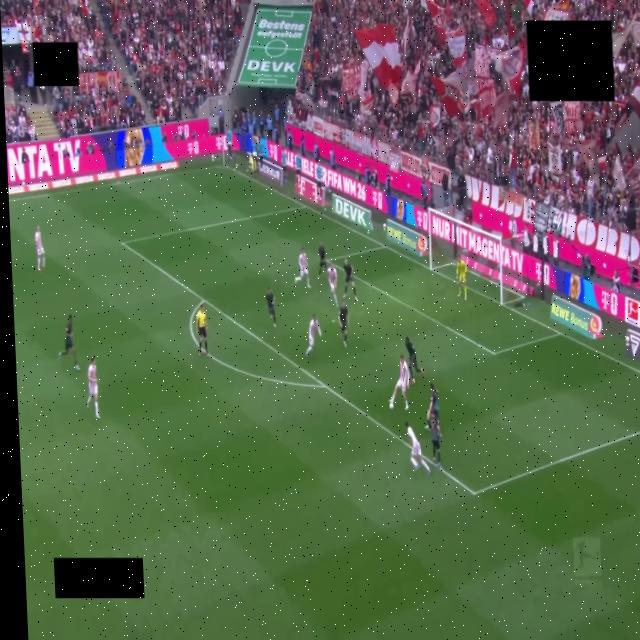ball: (390, 401, 393, 408)
player: (406, 422, 430, 473), (390, 355, 410, 410), (59, 315, 79, 370), (405, 336, 424, 383), (87, 357, 100, 418), (429, 414, 443, 468), (306, 314, 321, 357), (295, 248, 310, 287), (426, 384, 439, 429), (344, 259, 356, 301), (327, 263, 338, 306), (265, 286, 276, 328), (35, 226, 45, 271), (457, 255, 467, 300), (339, 301, 348, 347), (318, 242, 327, 278)
referee: (197, 304, 208, 355)
